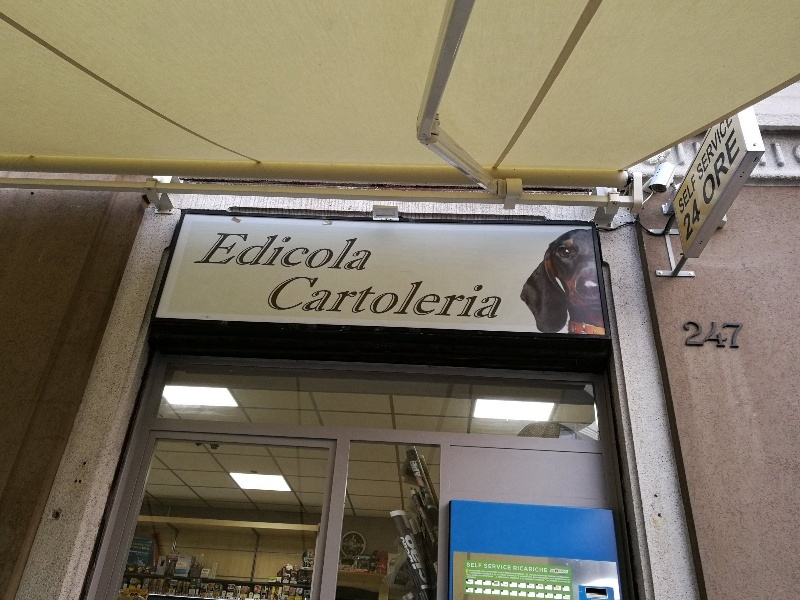text: (705, 127, 720, 209), (721, 127, 736, 209), (705, 111, 720, 183), (721, 111, 732, 183), (695, 111, 704, 183), (289, 277, 304, 320), (305, 277, 320, 320), (321, 277, 336, 320), (337, 277, 352, 320), (353, 277, 368, 320), (369, 277, 384, 320), (385, 277, 400, 320), (401, 277, 416, 320), (417, 277, 432, 320), (433, 277, 448, 320), (449, 277, 464, 320), (465, 277, 480, 320), (481, 277, 496, 320), (225, 231, 240, 271), (241, 231, 256, 271), (257, 231, 272, 271), (273, 231, 288, 271), (289, 231, 304, 271), (305, 231, 320, 271), (321, 231, 336, 271), (337, 231, 352, 271), (353, 231, 368, 271), (417, 535, 429, 585), (689, 197, 702, 243), (497, 277, 507, 320), (403, 537, 416, 570), (678, 173, 688, 215), (689, 321, 704, 348), (705, 321, 720, 348), (721, 321, 736, 348), (689, 173, 698, 215), (280, 277, 288, 320), (369, 231, 377, 271), (217, 231, 224, 271), (682, 197, 688, 243), (411, 535, 416, 585), (701, 127, 704, 209), (737, 127, 740, 209), (737, 321, 744, 348), (409, 461, 416, 478), (684, 321, 688, 348), (529, 566, 544, 573), (497, 563, 511, 570), (514, 566, 528, 573), (481, 570, 496, 576), (497, 570, 512, 576), (417, 461, 422, 478), (485, 563, 496, 570), (497, 577, 512, 582), (513, 577, 528, 582), (529, 577, 544, 582), (529, 576, 544, 581), (545, 576, 560, 581), (529, 574, 544, 579), (545, 574, 560, 579), (513, 570, 525, 576), (466, 569, 480, 574), (469, 570, 480, 576), (467, 563, 480, 568), (481, 573, 496, 577), (497, 573, 512, 577), (467, 574, 480, 578), (481, 574, 494, 578), (518, 576, 528, 581), (561, 576, 570, 581), (561, 574, 570, 579), (545, 580, 560, 583), (470, 573, 480, 577), (561, 580, 570, 583), (467, 577, 480, 579), (561, 570, 568, 573), (552, 570, 560, 572), (545, 566, 547, 573), (513, 573, 516, 577), (481, 563, 482, 568), (495, 577, 496, 582), (527, 574, 528, 579)
